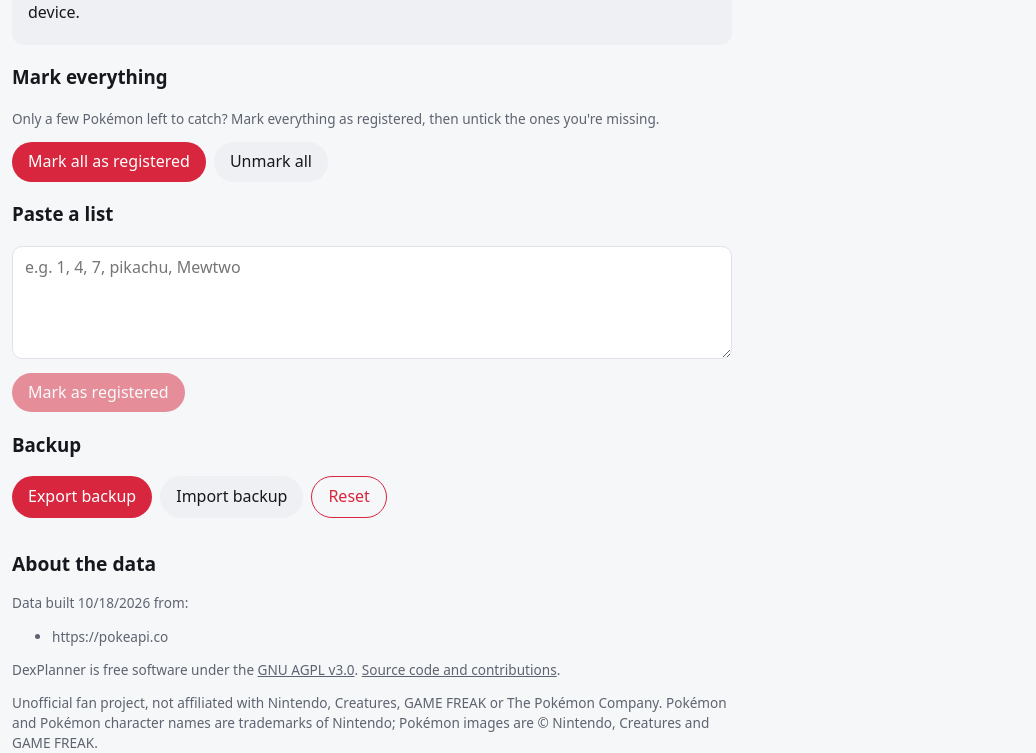
SettingsView › resets progress after confirmation
(page scrolled)
Click the button "Reset".
click(349, 497)  # box [311, 476, 387, 518]
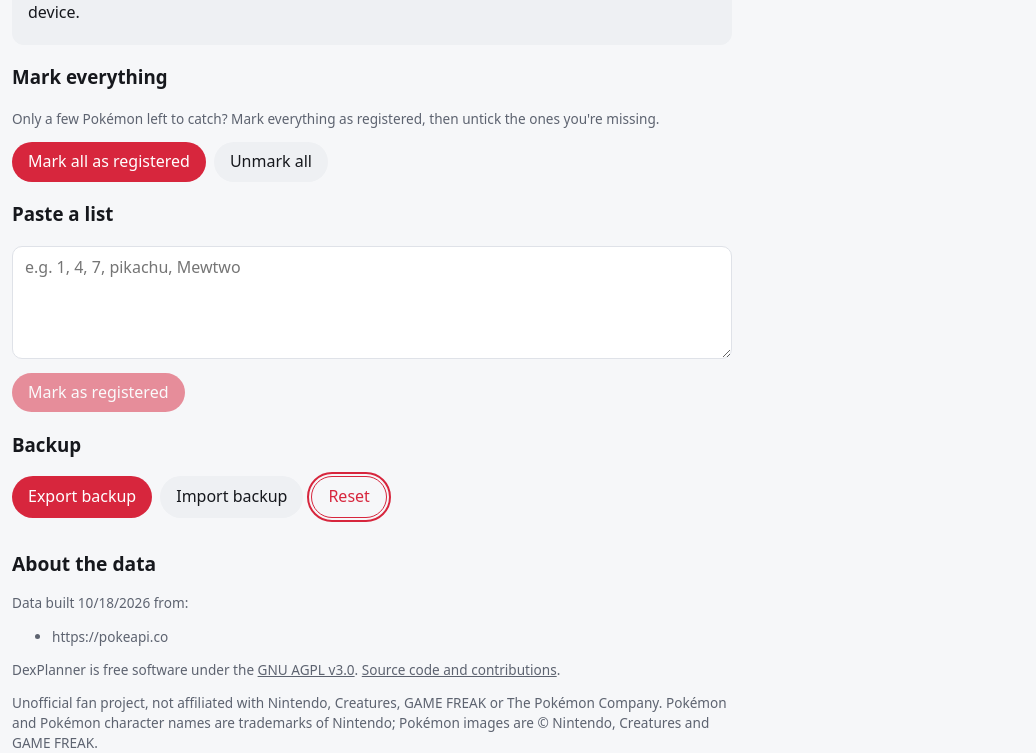
Click the button "Reset".
click(349, 497)  # box [311, 476, 387, 518]
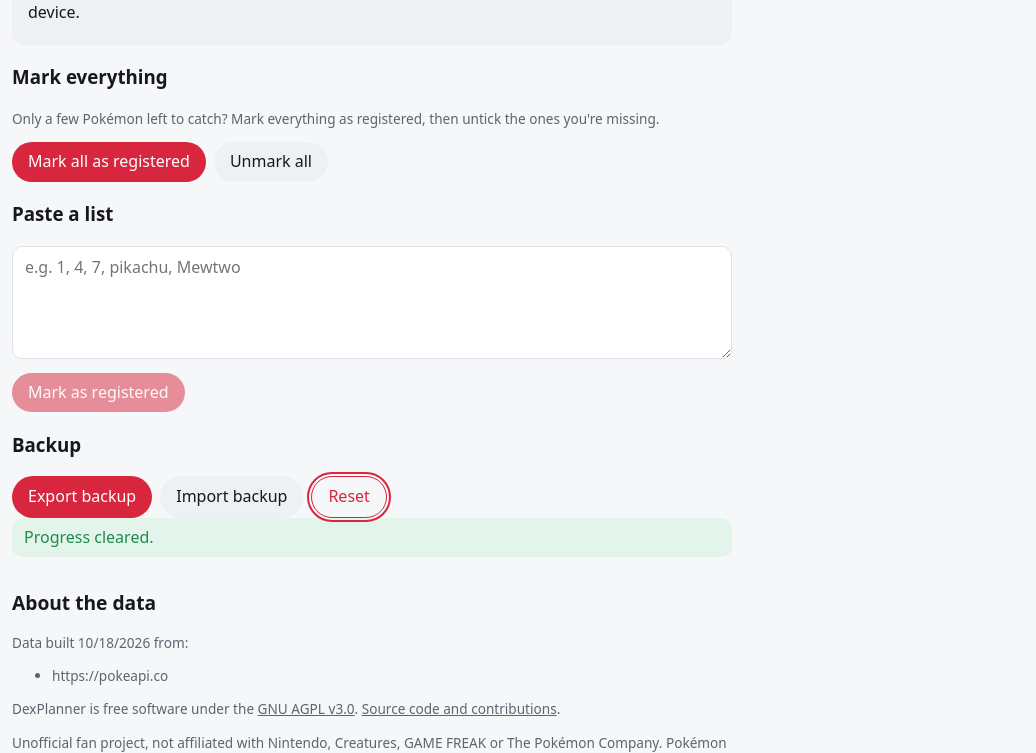
Now the text "Progress cleared." is shown, box [12, 518, 732, 557]
